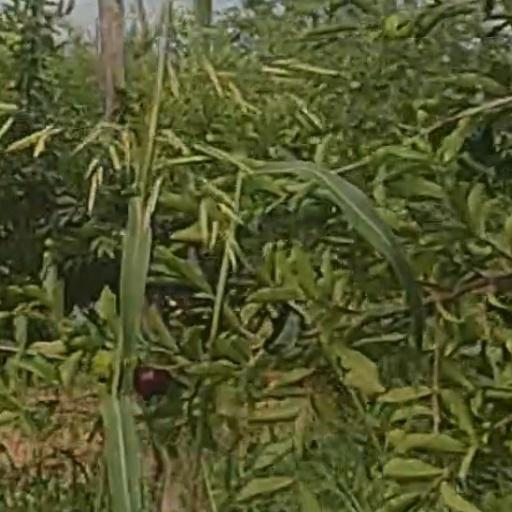acerola_vermelha: (132, 368, 170, 397)
